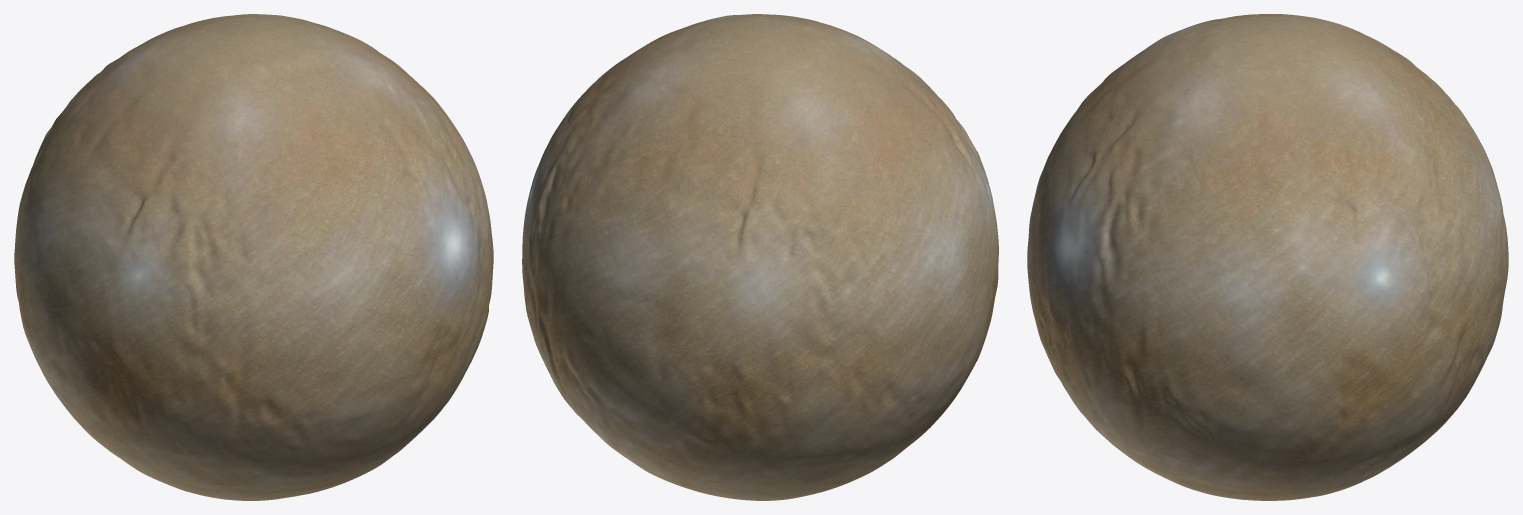
Rendered from hope.glb.
3 renders of one model, left to right at view 1: azimuth 30°, elevation 25°; view 2: azimuth 150°, elevation 25°; view 3: azimuth 270°, elevation 25°, orthographic.
Parts seen in each view (by area): view 1: geometry_0; view 2: geometry_0; view 3: geometry_0.
Boxes of the visible parts, left/top/right/bottom form: geometry_0: left=14, top=14, right=493, bottom=500; geometry_0: left=522, top=14, right=998, bottom=500; geometry_0: left=1027, top=14, right=1508, bottom=500.
Size of the model in its own units: 0.5879 by 0.5987 by 0.5884.
1 material, 1 textured.
